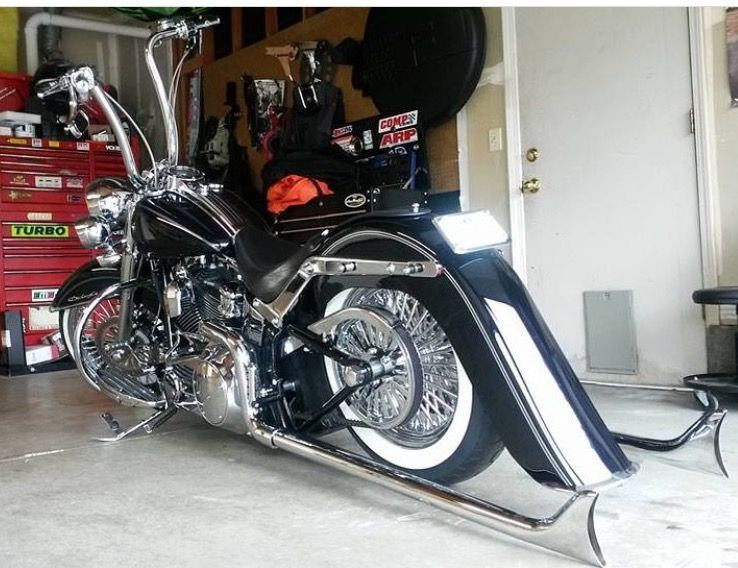Motor Cycle: (62, 18, 627, 521)
